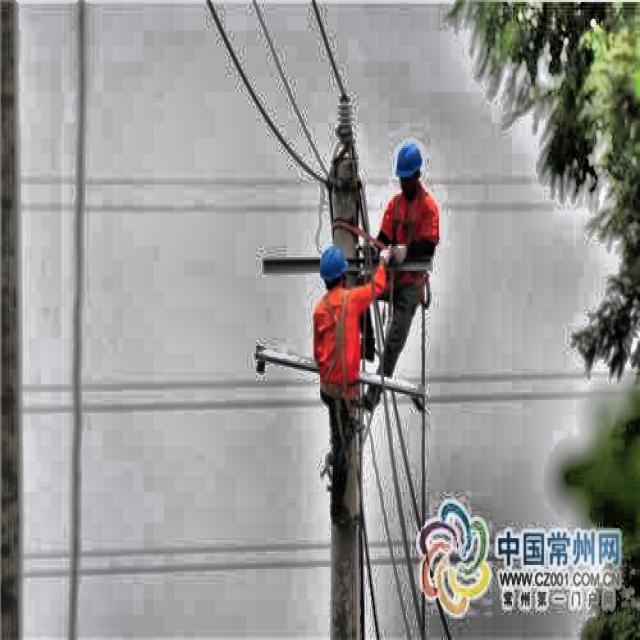helmet: (393, 138, 427, 206), (317, 238, 353, 300)
